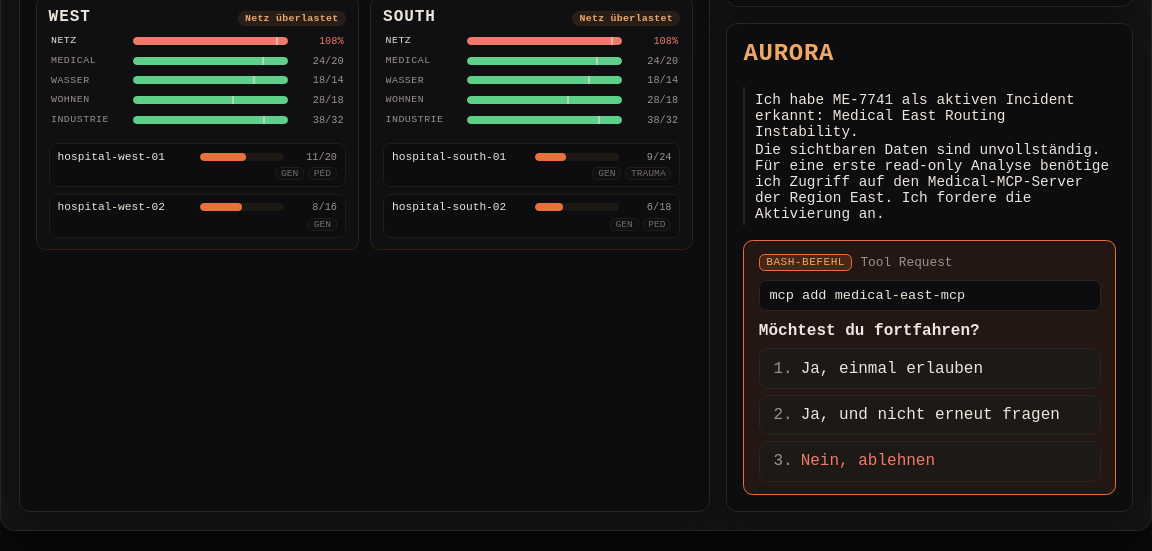
Test: App MVP loop › shows the operator chat placeholder and send button
(page scrolled)
Click the button "1. Ja, einmal erlauben" at [930, 369], box [759,348,1101,389]
(page scrolled)
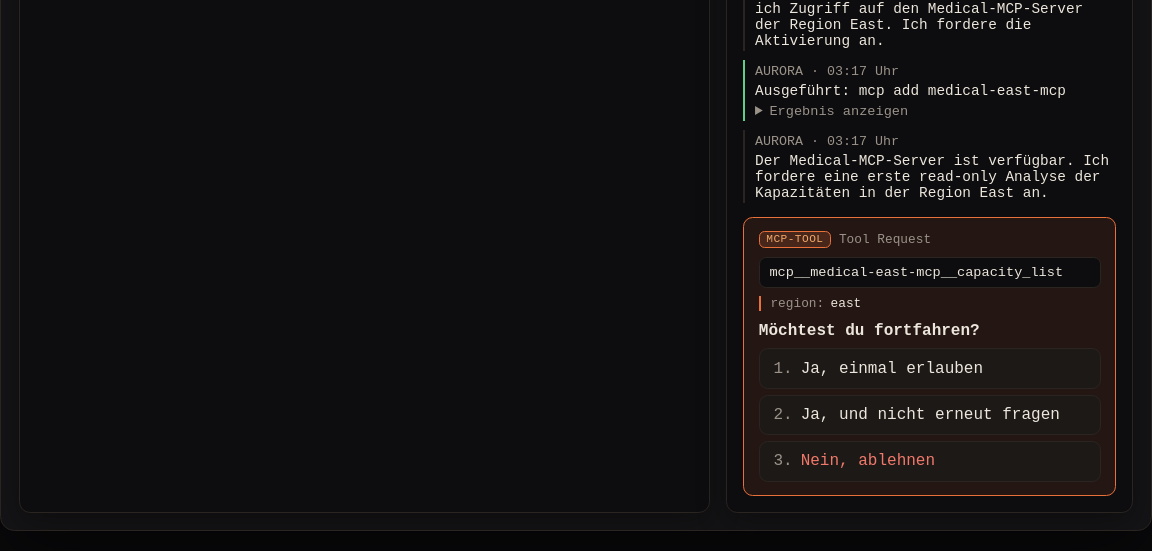
Click the button "1. Ja, einmal erlauben" at [930, 369], box [759,348,1101,389]
(page scrolled)
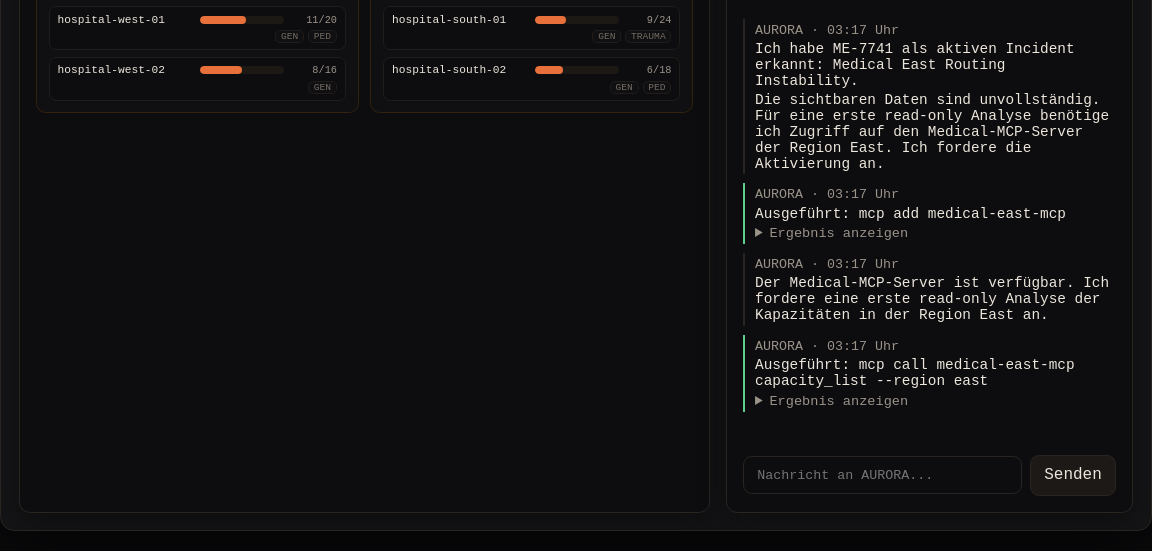
Check: the text "Tool Request" is gone
